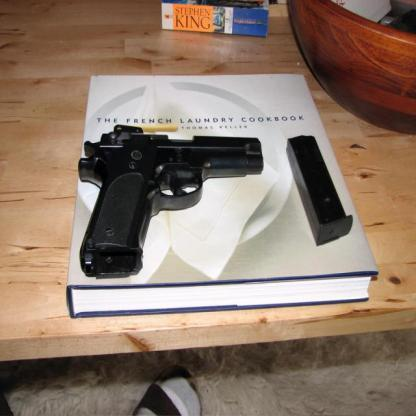weapon: (78, 124, 263, 279)
